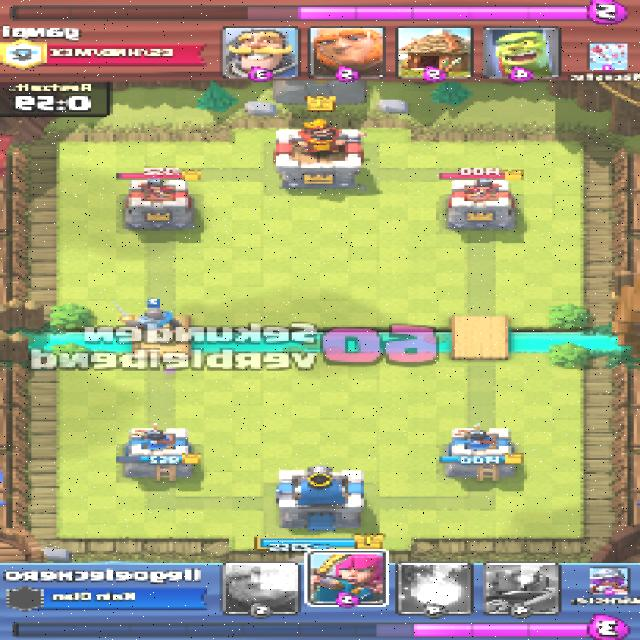Player-Knight: (120, 308, 182, 334)
